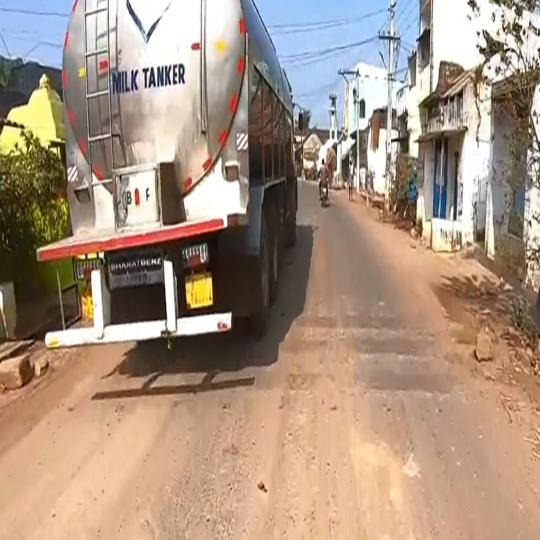Speed Bump: (89, 360, 461, 401), (265, 329, 462, 357), (271, 311, 461, 326)
